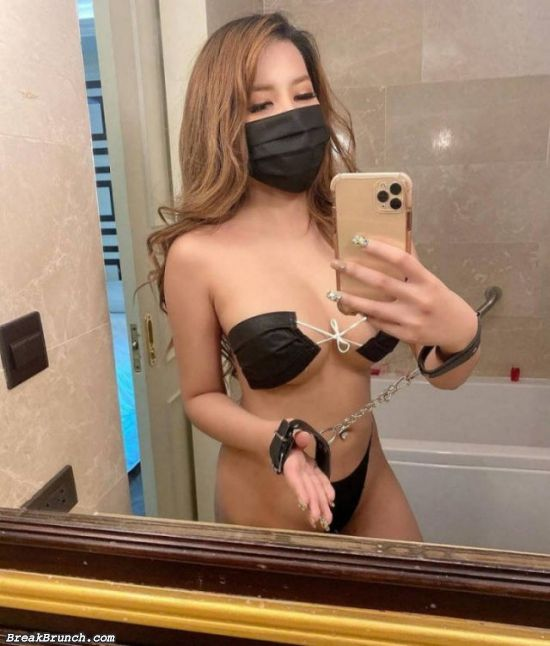with_incorrect_mask: (295, 441, 390, 539), (220, 297, 322, 381), (355, 305, 401, 376)
with_mask: (242, 54, 328, 176)
